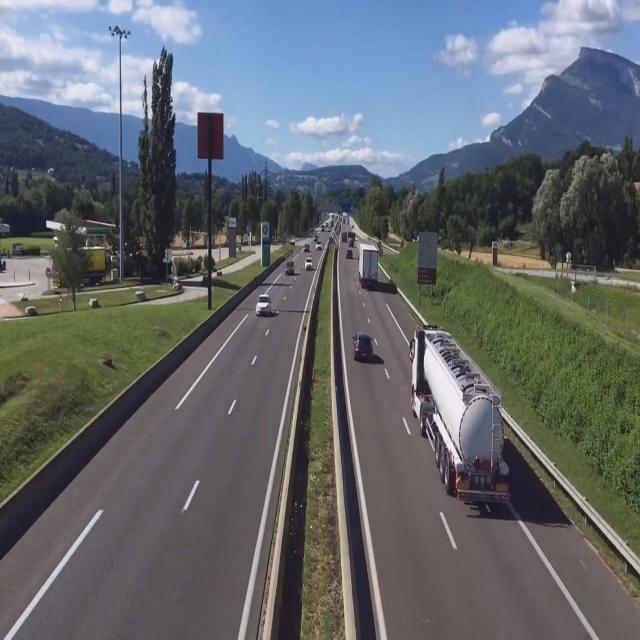car: (353, 329, 375, 364), (255, 293, 273, 316)
truck: (410, 323, 514, 509), (356, 241, 378, 288)
